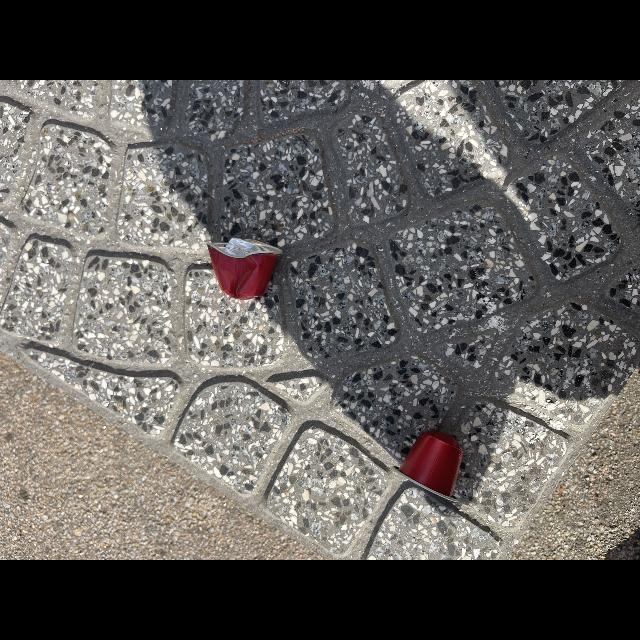damaged_capsule: (196, 227, 294, 309)
intact_capsule: (386, 418, 476, 509)
